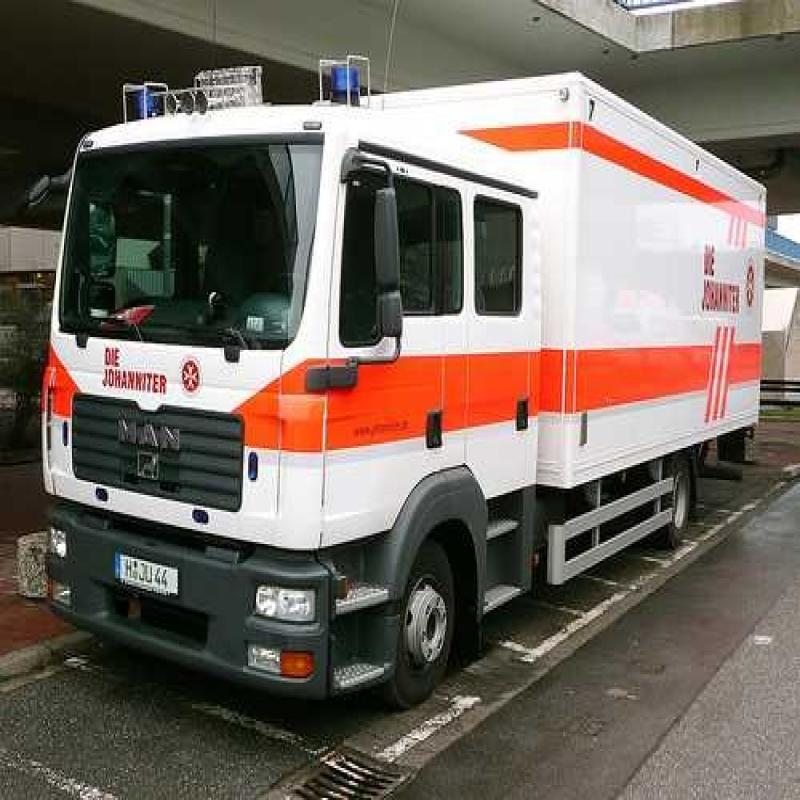AmbulanceSiren: (314, 52, 377, 114)
